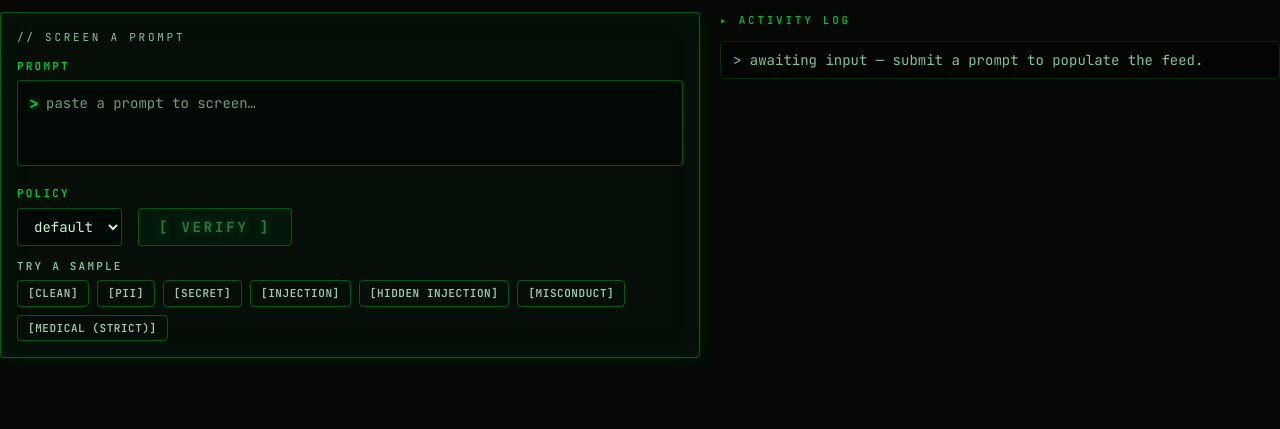
Test case: Dashboard orchestration › surfaces an API error without crashing the dashboard
Type "hello" into the text box labelled "Prompt" at x=350, y=123, box [17, 80, 683, 166]
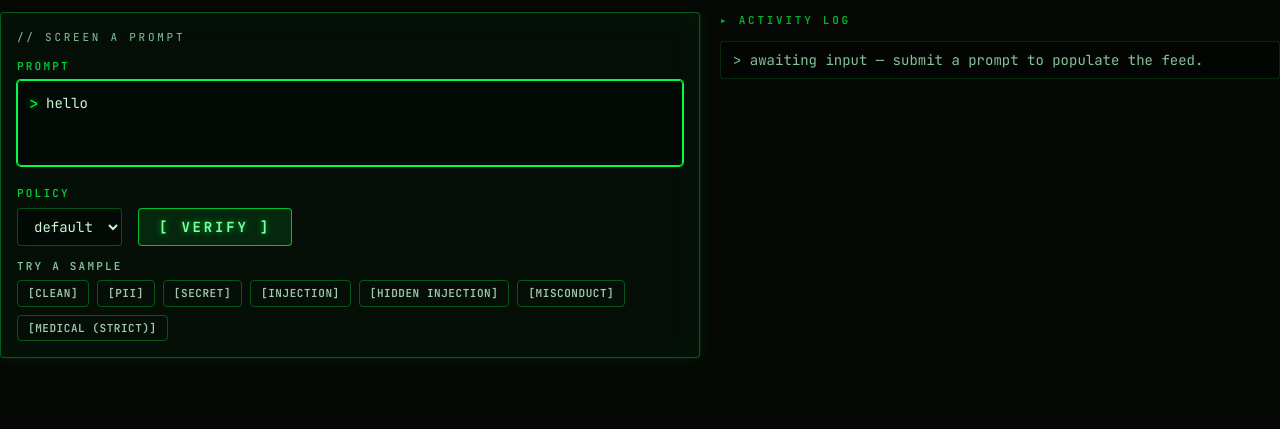
Click the button "[ Verify ]" at x=215, y=226, box [138, 208, 292, 246]
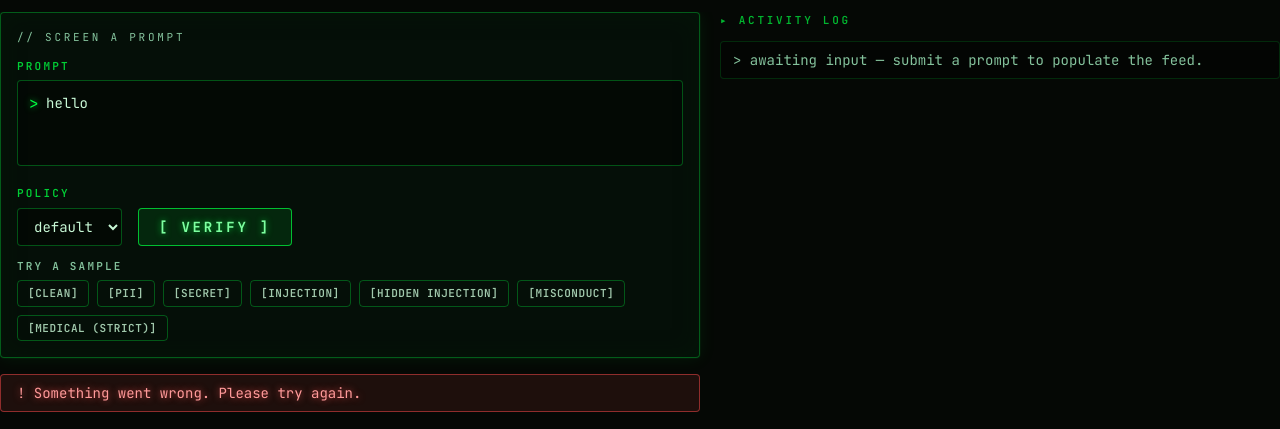
Check: the message "! Something went wrong. Please try again." is shown, box [0, 374, 700, 412]
